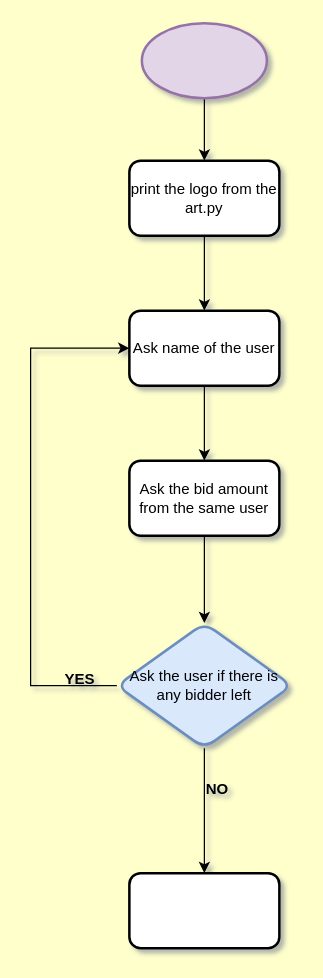
Image size: 323x978. Some labels were removed from this diagram. Here are the shapes that lost their labels. From the top down, the centre of each, then its label:
point (204, 60): Start
point (204, 910): Print how bided highest and the bid amount
